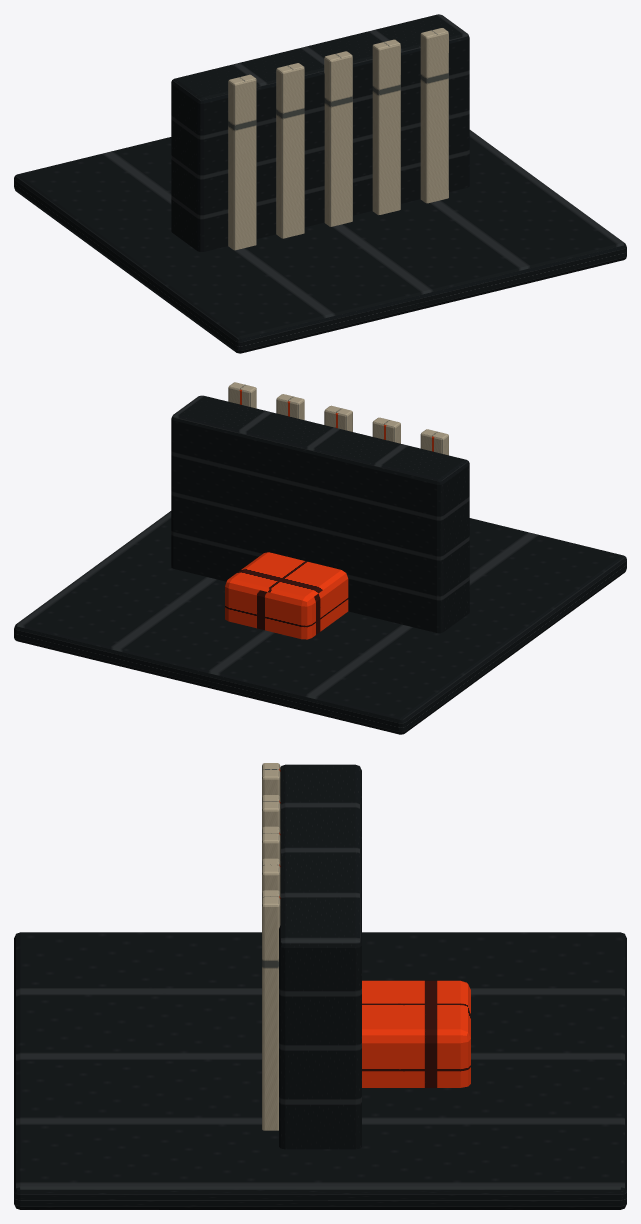
Rendered from roof_engineering_radiator.glb.
3 renders of one model, top to bottom at view 1: azimuth 30°, elevation 25°; view 2: azimuth 150°, elevation 25°; view 3: azimuth 270°, elevation 25°, orthographic. The views are drawn at different scales.
Parts seen in each view (by area): view 1: Removable roof mounting plate.004, Radiator core, Radiator fin.001, Radiator fin.002, Radiator fin.003, Radiator fin, Radiator fin.004; view 2: Removable roof mounting plate.004, Radiator core, Service collar, Radiator fin.004, Radiator fin, Radiator fin.003, Radiator fin.001, Radiator fin.002; view 3: Removable roof mounting plate.004, Radiator core, Service collar, Radiator fin.004, Radiator fin.003, Radiator fin.002, Radiator fin, Radiator fin.001.
Boxes of the visible parts, x1,y1,x2,y2 form: Removable roof mounting plate.004: (14,130,626,353); Radiator core: (171,14,469,251); Radiator fin.001: (276,63,304,238); Radiator fin.002: (324,51,352,226); Radiator fin.003: (372,39,400,214); Radiator fin: (228,74,256,250); Radiator fin.004: (420,28,448,203); Removable roof mounting plate.004: (14,511,626,734); Radiator core: (171,395,469,633); Service collar: (225,552,348,639); Radiator fin.004: (228,382,256,408); Radiator fin: (420,429,448,455); Radiator fin.003: (276,394,304,420); Radiator fin.001: (372,417,400,443); Radiator fin.002: (324,405,352,431); Removable roof mounting plate.004: (14,932,626,1209); Radiator core: (279,764,361,1149); Service collar: (362,980,470,1087); Radiator fin.004: (262,890,280,1130); Radiator fin.003: (262,858,280,892); Radiator fin.002: (262,826,280,860); Radiator fin: (262,763,280,796); Radiator fin.001: (262,795,280,828).
Size of the model in its own units: 2.36 by 1.08 by 2.36.
3 materials, 3 textured.
